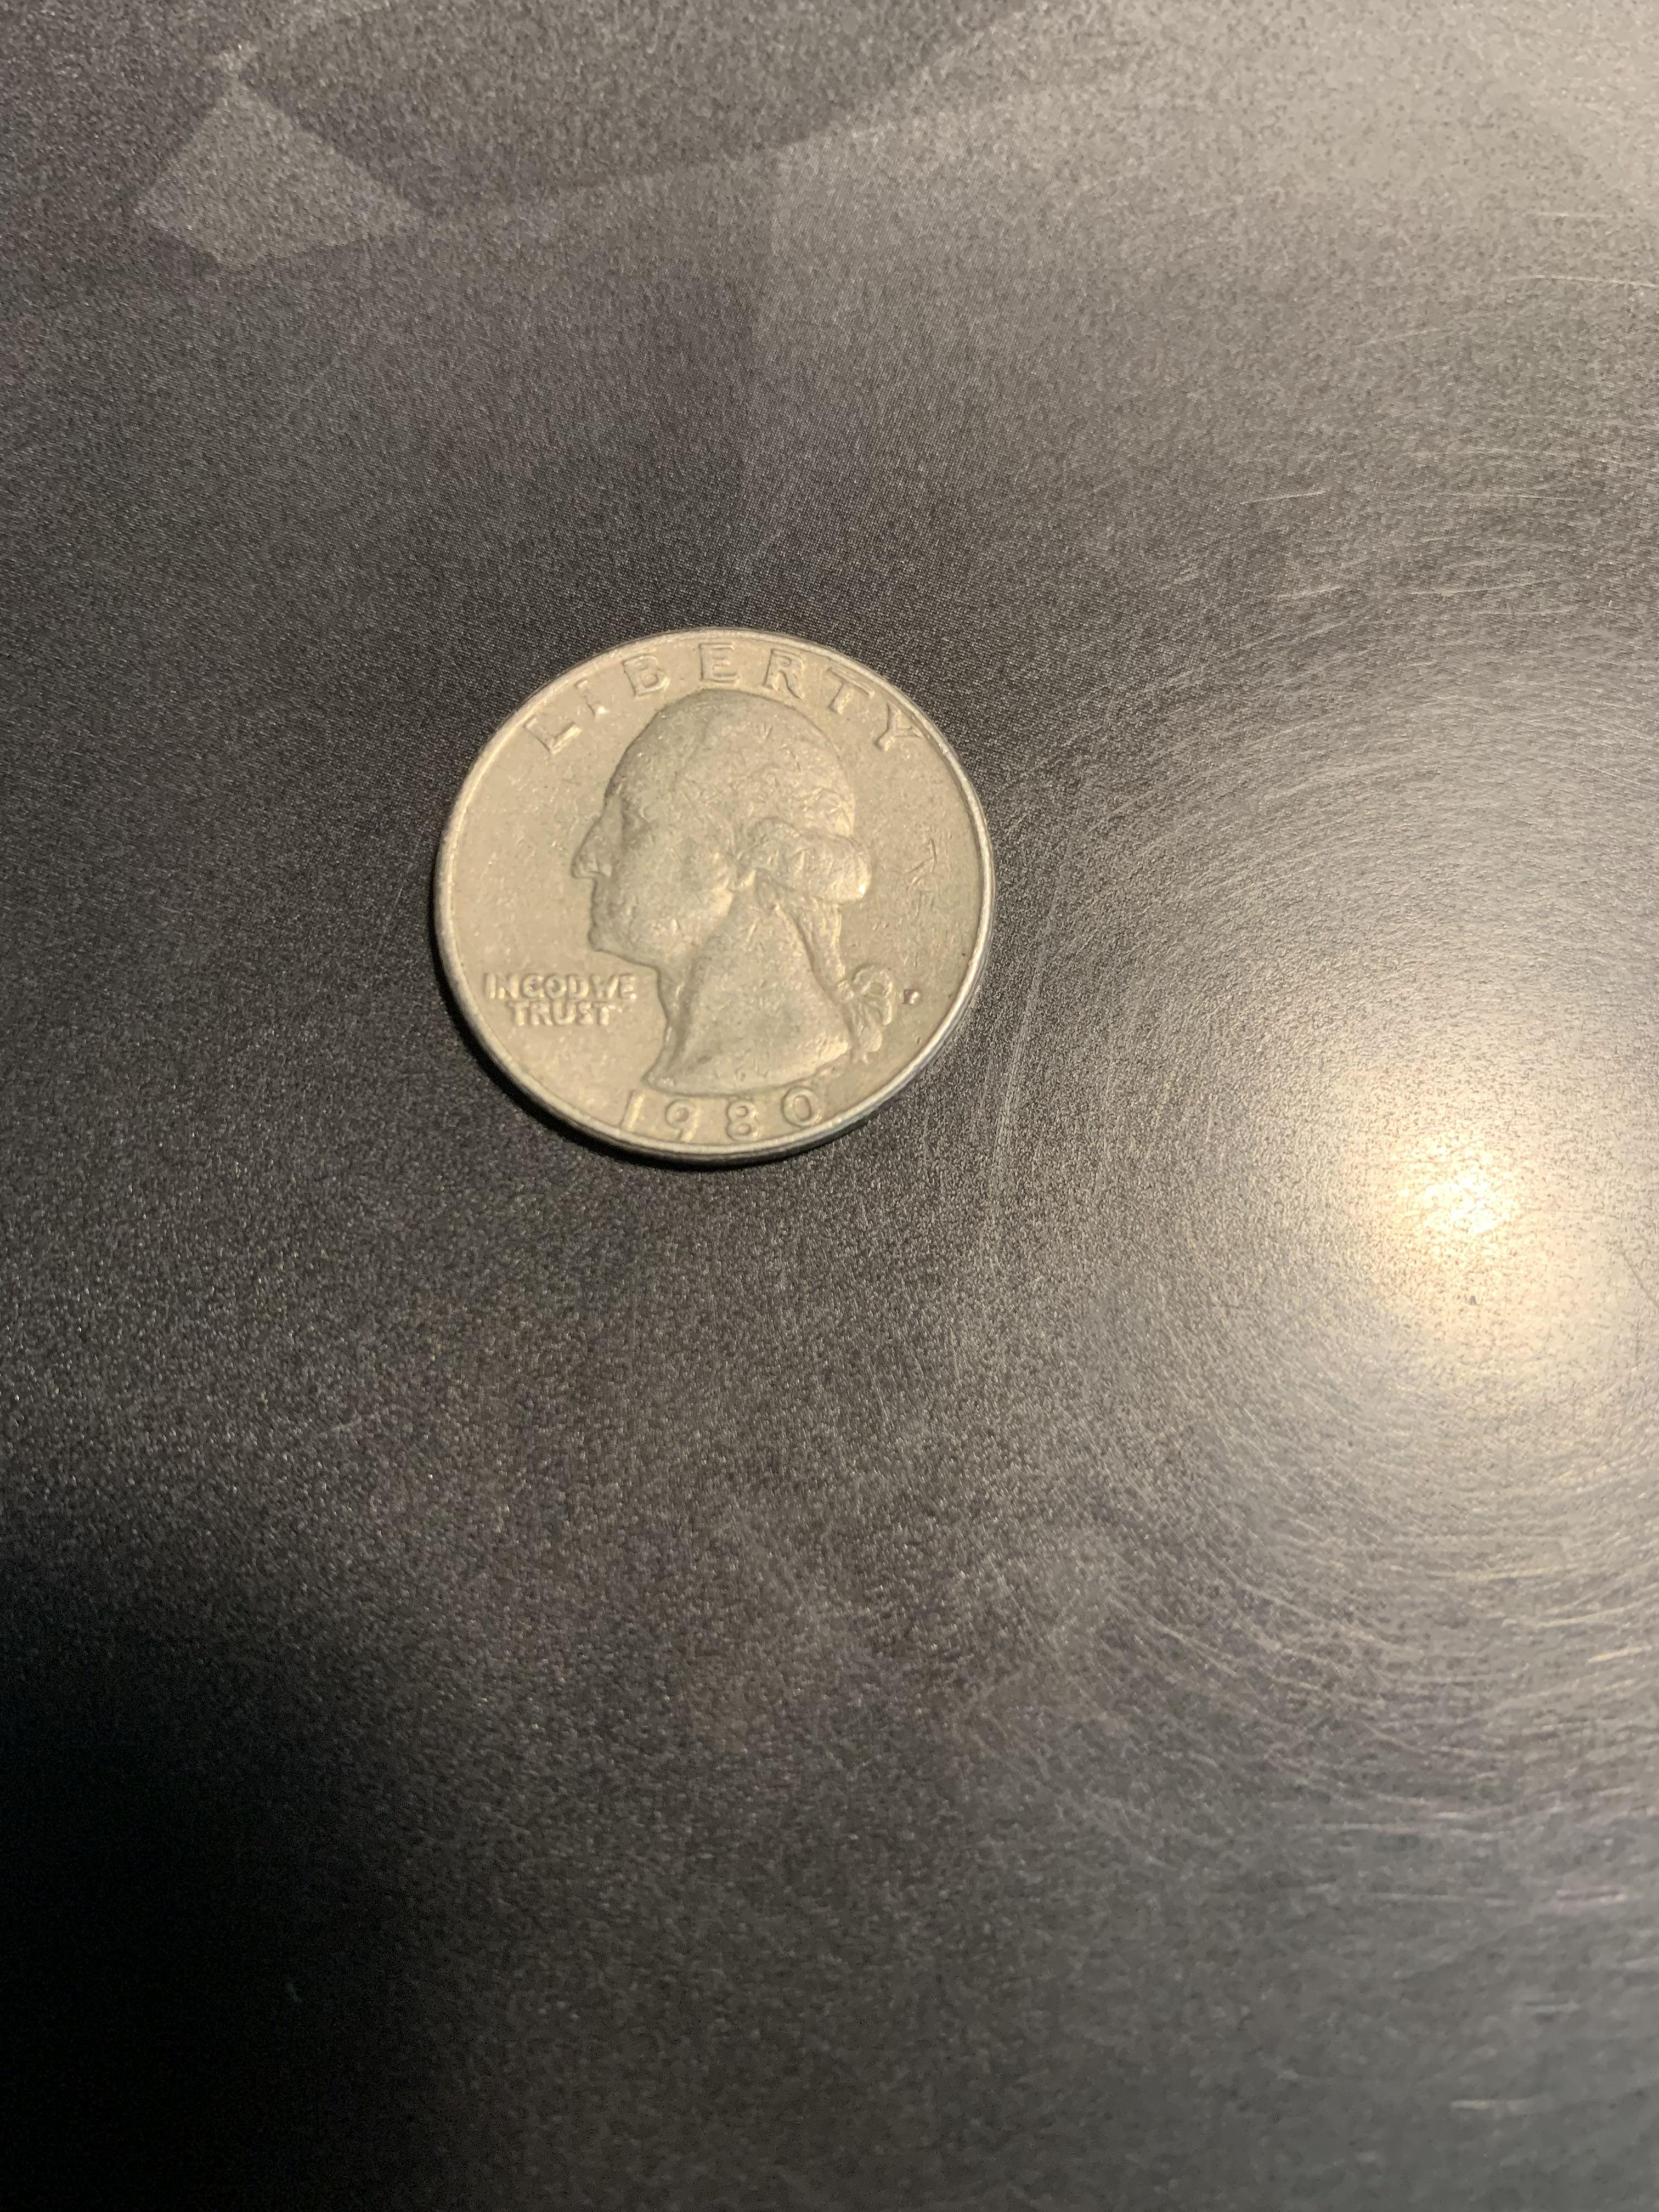Quarter: (410, 596, 1021, 1188)
